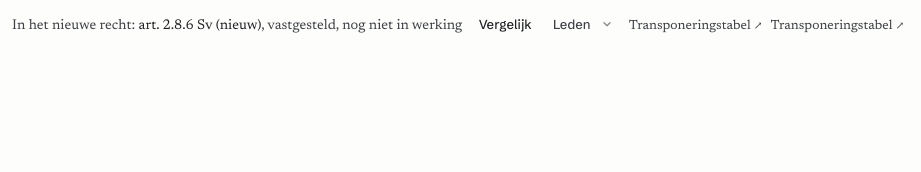
Test: ArticleSuccession with an outcome › puts the outcome of a part beside the successor in the fold-out
Click the button "Leden".
click(583, 24)  # box [548,12,618,36]
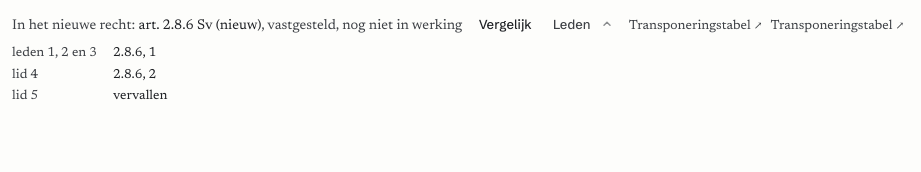
Expected: the number of links "Transponeringstabel" is 2, [629,19,763,32]; [771,19,904,32]
Now the text "lid 5" is shown, box [12,89,38,102]
Now the text "vervallen" is shown, box [113,89,168,102]
